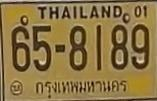1: (96, 24, 102, 70)
5: (32, 25, 51, 71)
6: (11, 26, 29, 71)
8: (110, 24, 127, 69), (69, 25, 86, 70)
9: (130, 23, 148, 68)
BKK: (32, 77, 129, 95)
